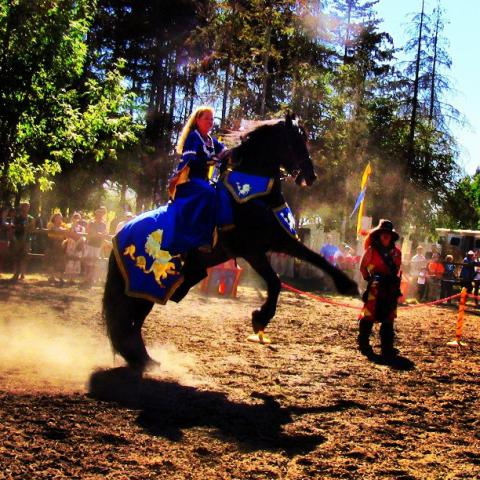truck: (417, 228, 479, 264)
